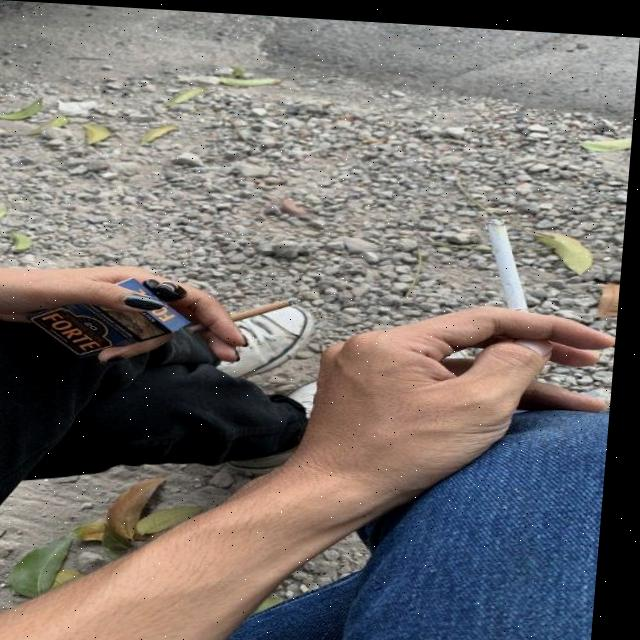cigarette: (484, 210, 538, 303)
